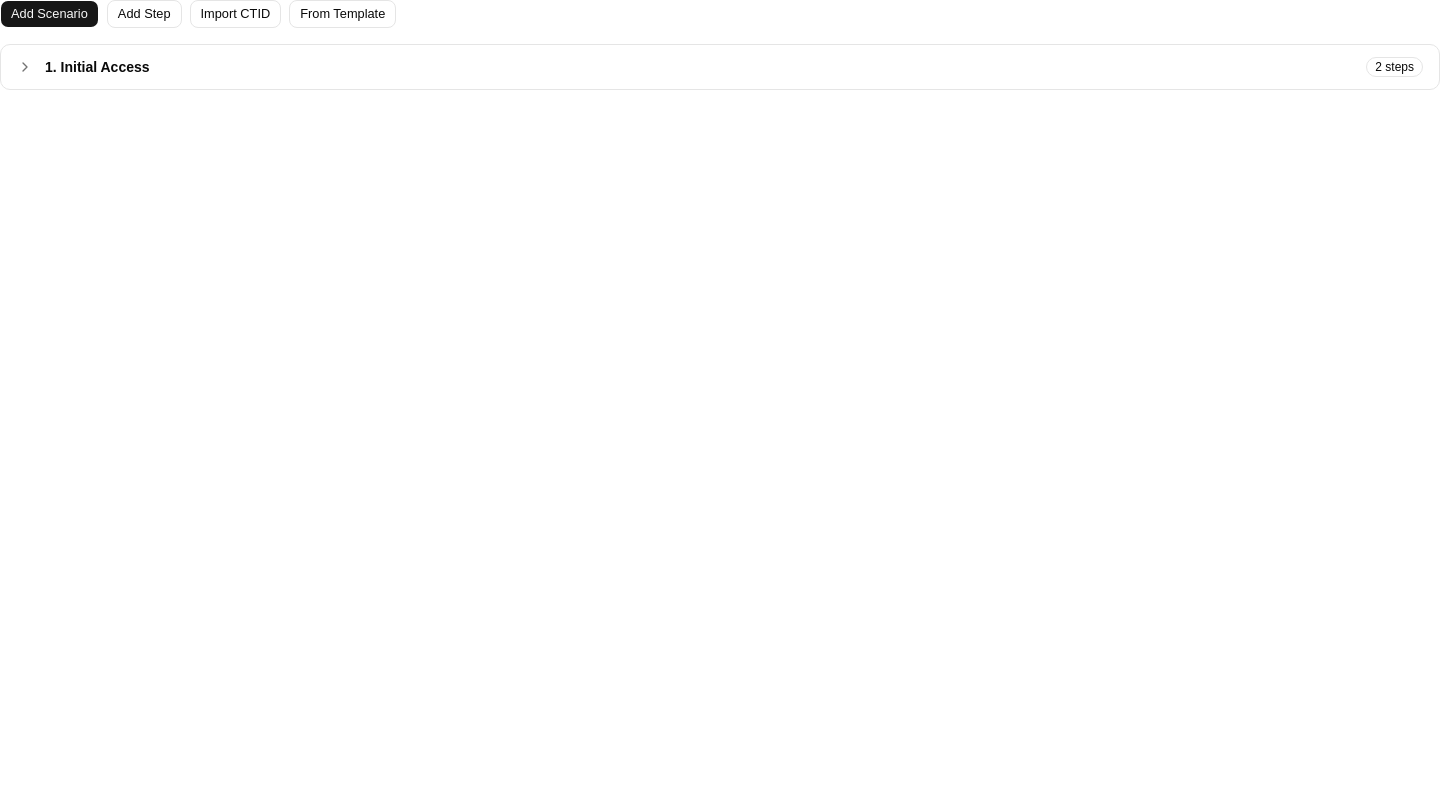
Test: WorkbookPage — red sees all steps › shows Reveal button for unrevealed step in drawer
Step 1. Click the heading "1. Initial Access" → (97, 67), box top-left (45, 59), bottom-right (150, 75)
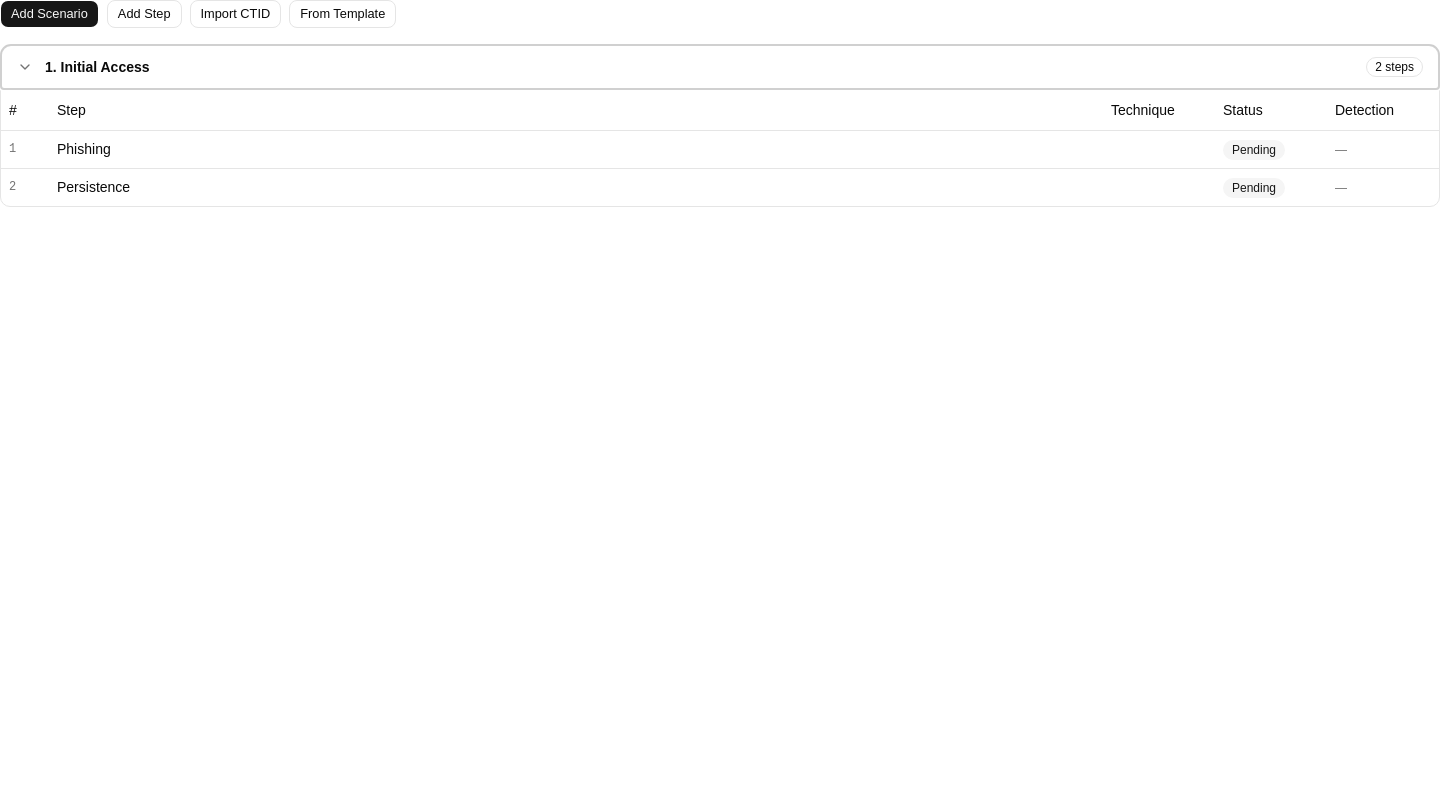
Step 2. Click the text "Persistence" → (94, 187), box top-left (57, 177), bottom-right (130, 197)
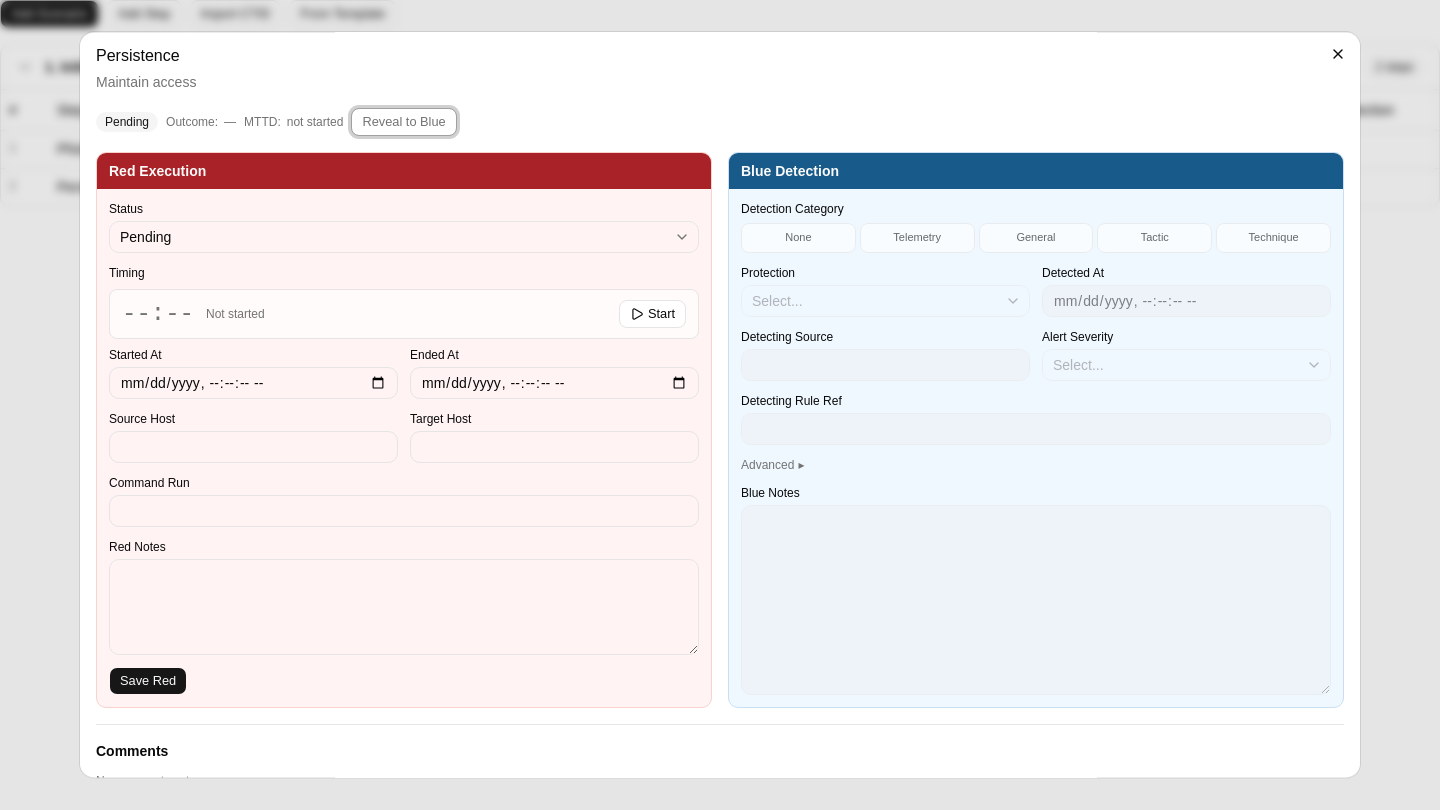
Now the button "Reveal to Blue" is shown, box top-left (351, 108), bottom-right (457, 136)
